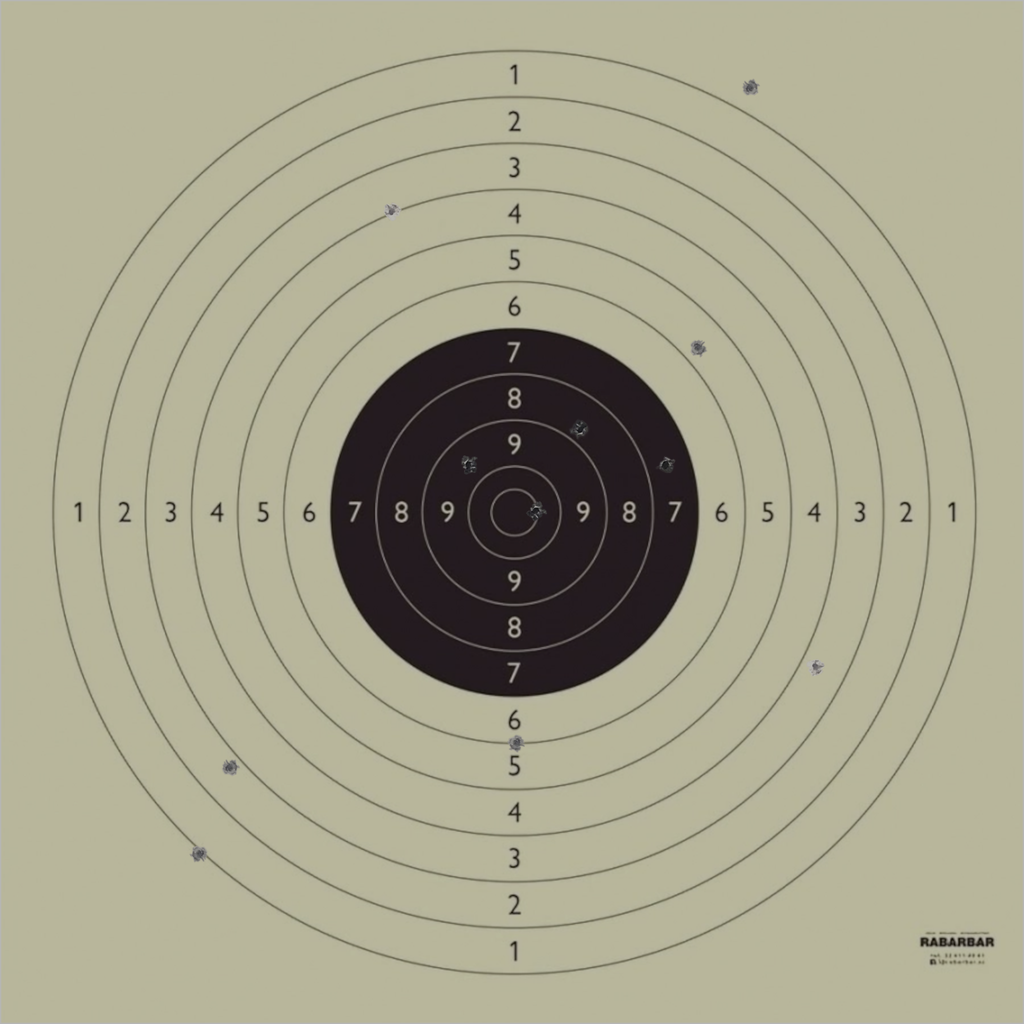0 punktow: (741, 79, 759, 97)
1 punkt: (191, 845, 209, 863)
10 punktow: (526, 502, 545, 520)
2 punkty: (220, 758, 239, 777)
3 punkty: (806, 657, 825, 676)
4 punkty: (382, 202, 401, 221)
5 punktow: (689, 338, 707, 357)
6 punktow: (507, 733, 526, 752)
7 punktow: (657, 456, 675, 474)
8 punktow: (571, 421, 589, 439)
9 punktow: (460, 456, 478, 474)
